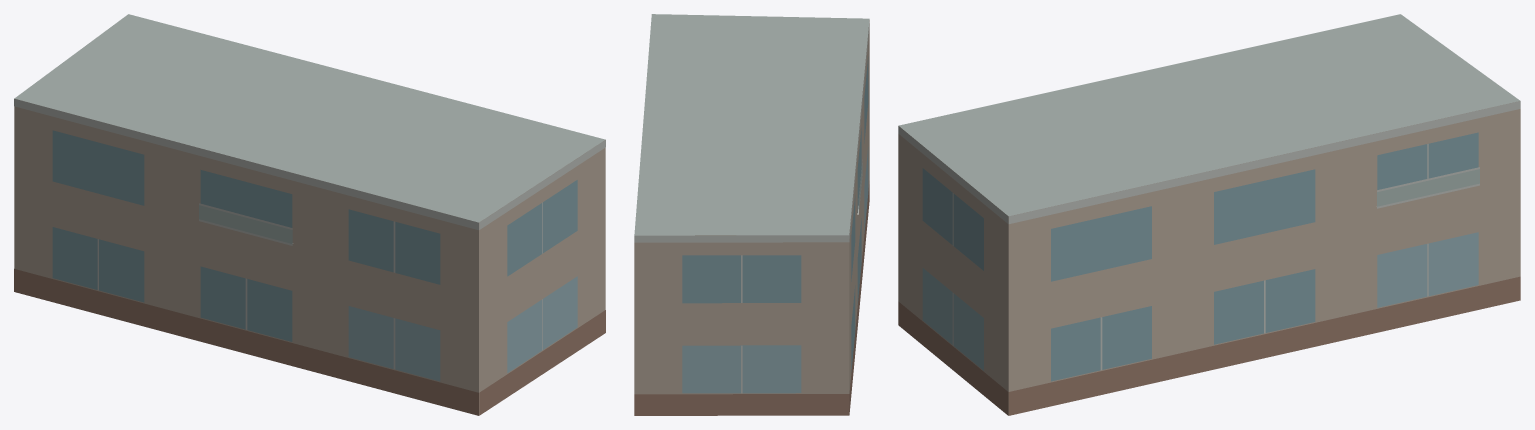
Rendered from survey-upis-32491658.glb.
3 renders of one model, left to right at view 1: azimuth 30°, elevation 25°; view 2: azimuth 150°, elevation 25°; view 3: azimuth 270°, elevation 25°, orthographic. The views are drawn at different scales.
Visible parts, largest first — view 1: survey-upis-32491658.tmp; view 2: survey-upis-32491658.tmp; view 3: survey-upis-32491658.tmp.
Part boxes in pixels (x1=…): survey-upis-32491658.tmp: x1=14, y1=14, x2=605, y2=415; survey-upis-32491658.tmp: x1=634, y1=14, x2=869, y2=415; survey-upis-32491658.tmp: x1=898, y1=14, x2=1520, y2=415.
Bounding box in the file's own units: 13.28 × 6.1 × 17.25.
